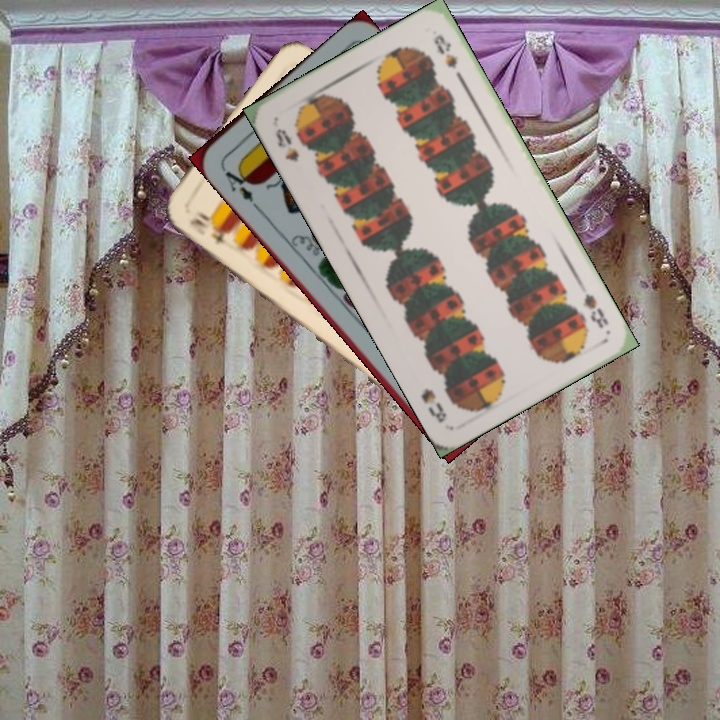E10: (185, 214, 231, 247)
EA: (217, 161, 261, 211)
S8: (579, 289, 611, 331), (271, 124, 302, 165)
